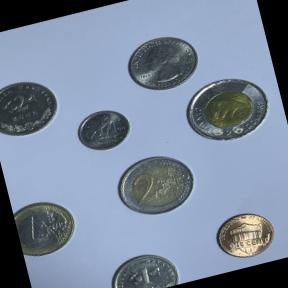coin: (176, 66, 278, 153), (107, 143, 207, 228), (116, 24, 207, 102), (11, 190, 84, 264), (0, 69, 68, 145), (206, 202, 282, 268), (70, 100, 138, 160)
